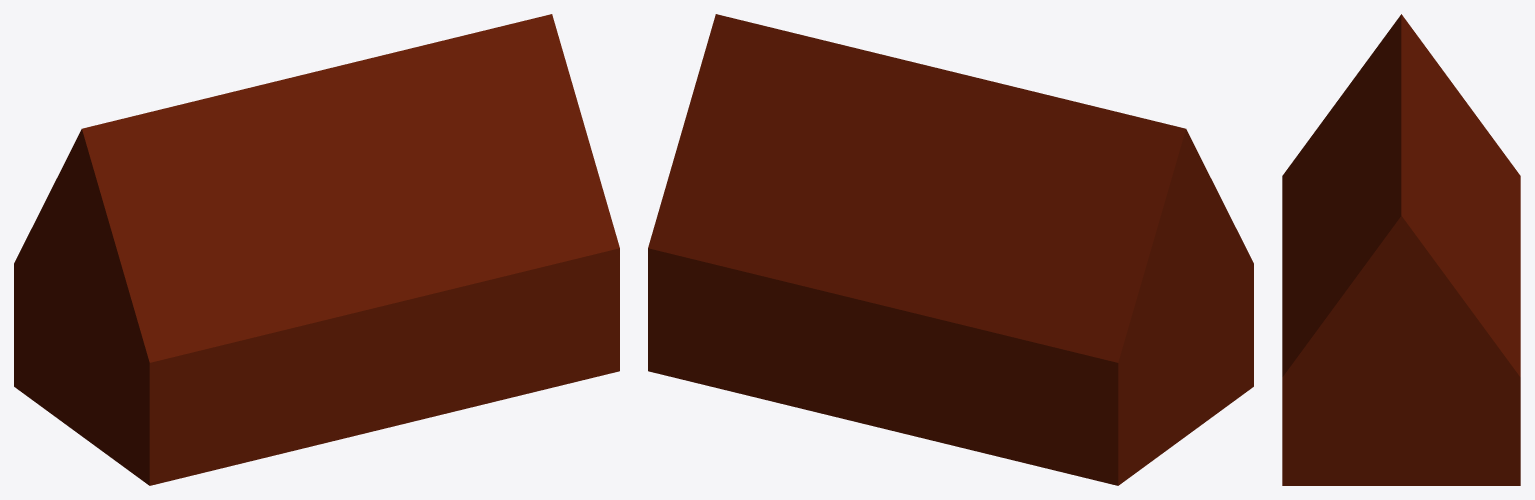
3 renders of one model, left to right at view 1: azimuth 30°, elevation 25°; view 2: azimuth 150°, elevation 25°; view 3: azimuth 270°, elevation 25°, orthographic. The views are drawn at different scales.
Parts seen in each view (by area): view 1: SketchUp; view 2: SketchUp; view 3: SketchUp.
Part boxes in pixels (x1,y1,x2,y2): SketchUp: (14, 14, 619, 485); SketchUp: (648, 14, 1253, 485); SketchUp: (1282, 14, 1520, 485).
Bounding box in the file's own units: 315 × 157 × 197.
